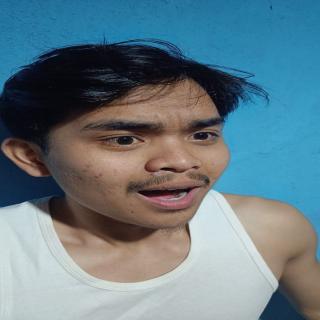Takut: (60, 80, 238, 234)
